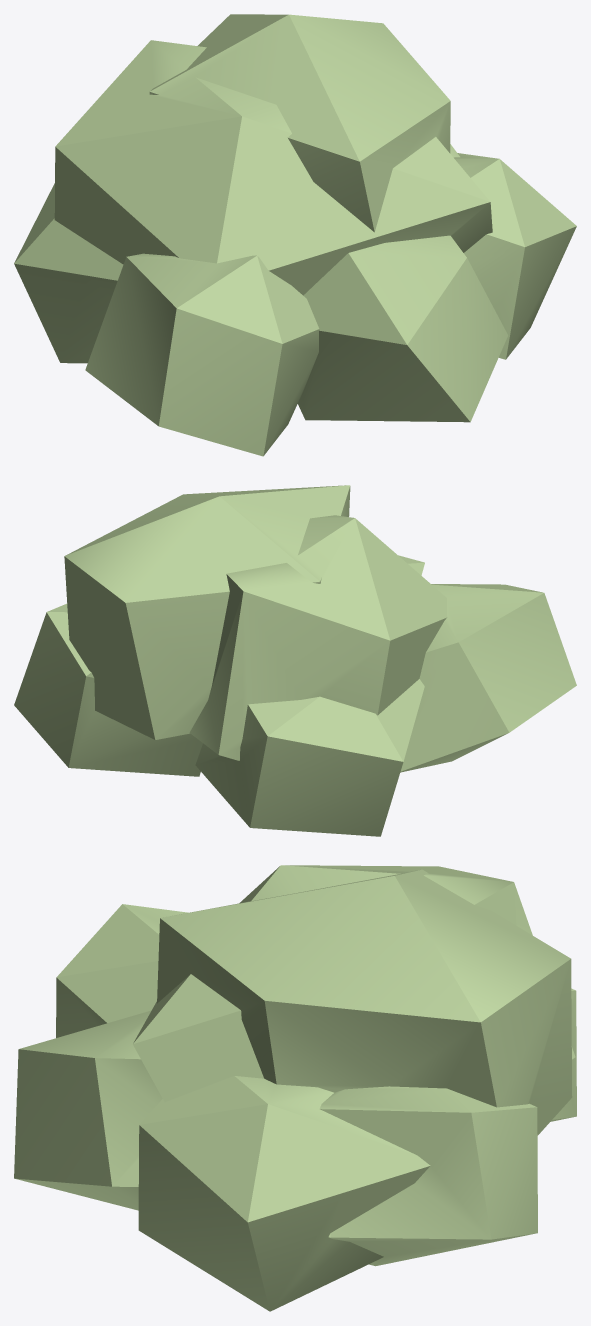
The model's file is cespuglio1.fbx.
The picture shows the model from 3 angles, top to bottom: view 1: azimuth 30°, elevation 25°; view 2: azimuth 150°, elevation 25°; view 3: azimuth 270°, elevation 25°; orthographic projection. The views are drawn at different scales.
Parts seen in each view (by area): view 1: Bush_Large_01; view 2: Bush_Large_01; view 3: Bush_Large_01.
Part boxes in pixels (bbox=[...]): Bush_Large_01: bbox=[14, 14, 576, 456]; Bush_Large_01: bbox=[14, 485, 576, 836]; Bush_Large_01: bbox=[14, 865, 576, 1311].
Bounding box in the file's own units: 173 × 107 × 161.
